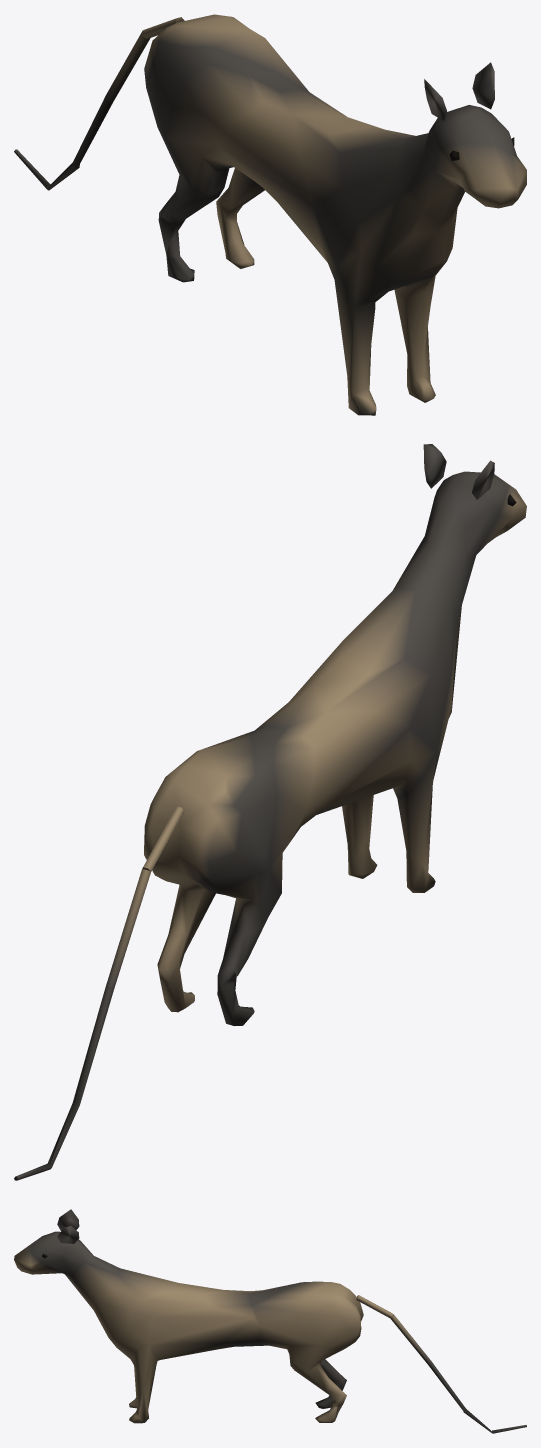
The model's file is katze.glb.
The picture shows the model from 3 angles, top to bottom: view 1: azimuth 30°, elevation 25°; view 2: azimuth 150°, elevation 25°; view 3: azimuth 270°, elevation 25°; orthographic projection. The views are drawn at different scales.
Visible parts, largest first — view 1: lack; view 2: lack; view 3: lack.
Part boxes in pixels (x1,y1,x2,y2): lack: (14, 14, 526, 415); lack: (14, 444, 526, 1180); lack: (14, 1209, 526, 1433).
Bounding box in the file's own units: 0.11 × 0.4132 × 0.8895.
